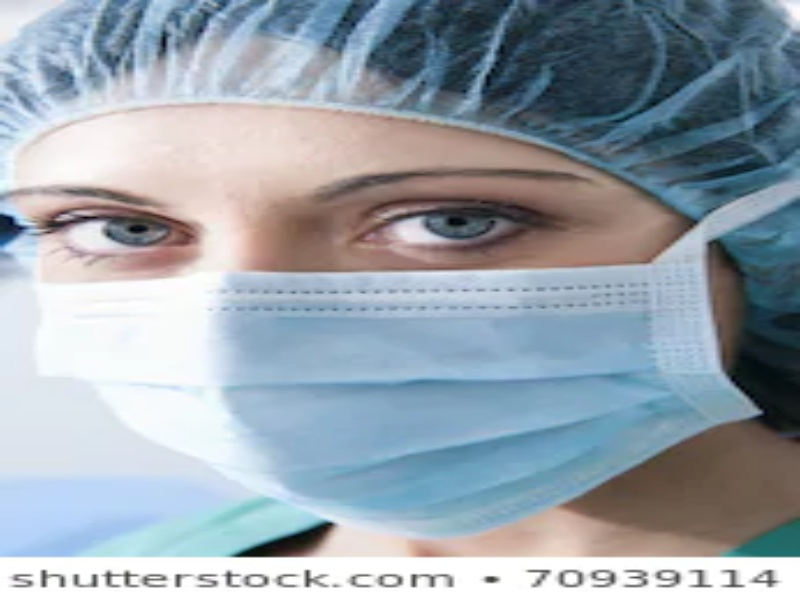ManaoArotava: (9, 8, 713, 548)
